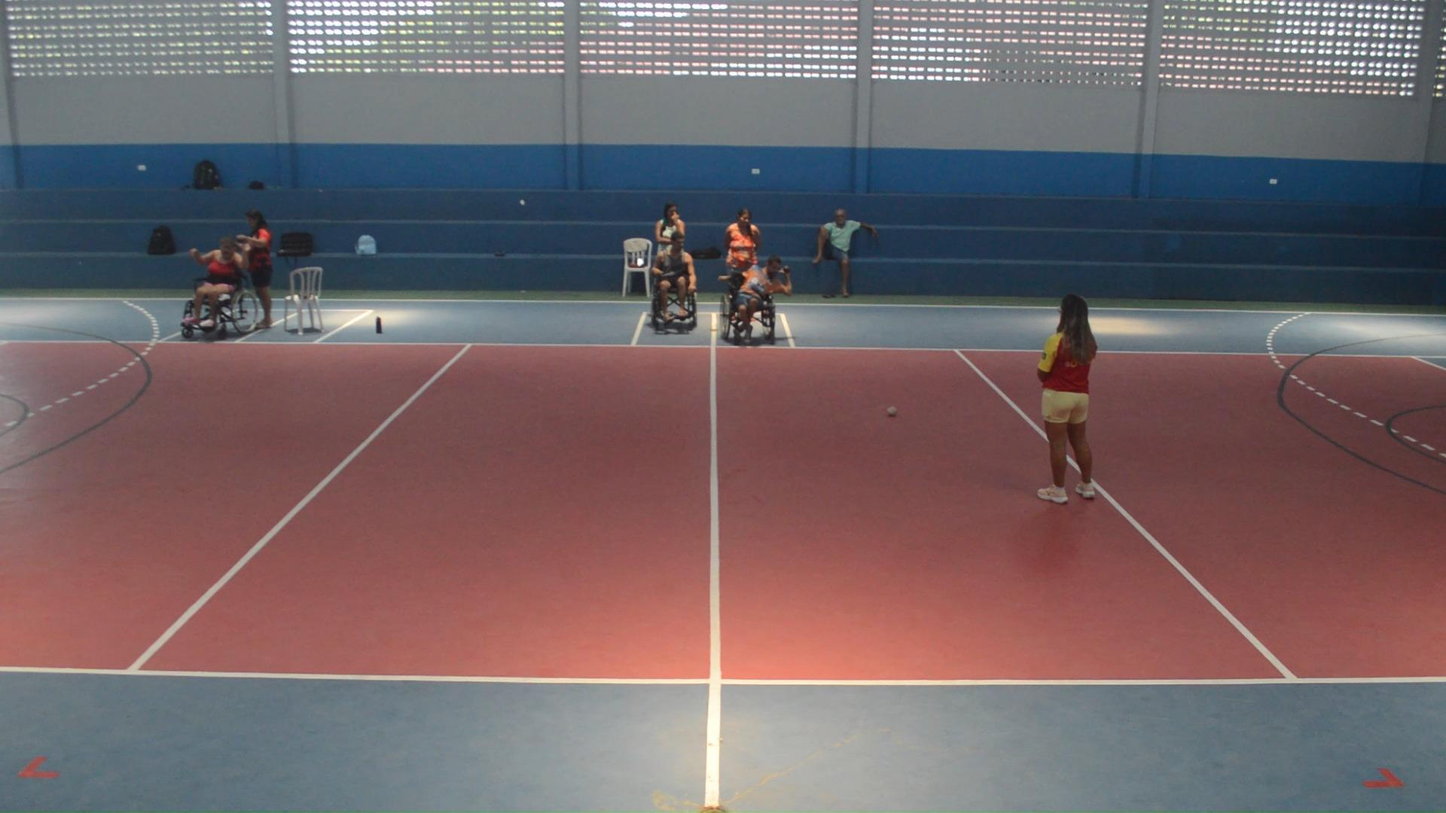white_ball: (886, 406, 898, 417)
